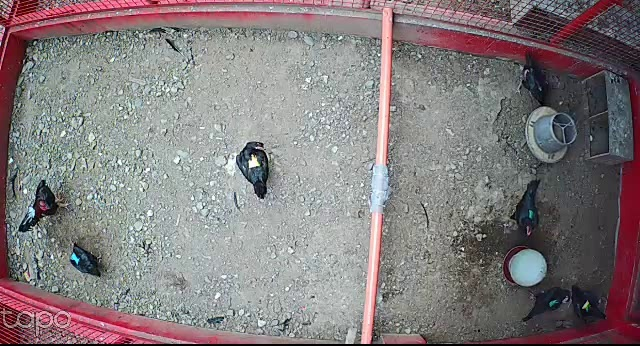Chicken: (505, 178, 545, 242), (511, 56, 554, 111), (237, 137, 270, 204), (521, 281, 573, 323), (62, 240, 104, 279), (569, 284, 607, 321)
Drinker: (502, 245, 549, 287)
Feeder: (523, 105, 578, 166)
Rooster: (15, 179, 74, 235)
Saddle_Color_Blue: (70, 251, 80, 264)
Saddle_Color_Yellow: (248, 154, 262, 169)
Saddle_Color_YellowGreen: (583, 301, 592, 312)
